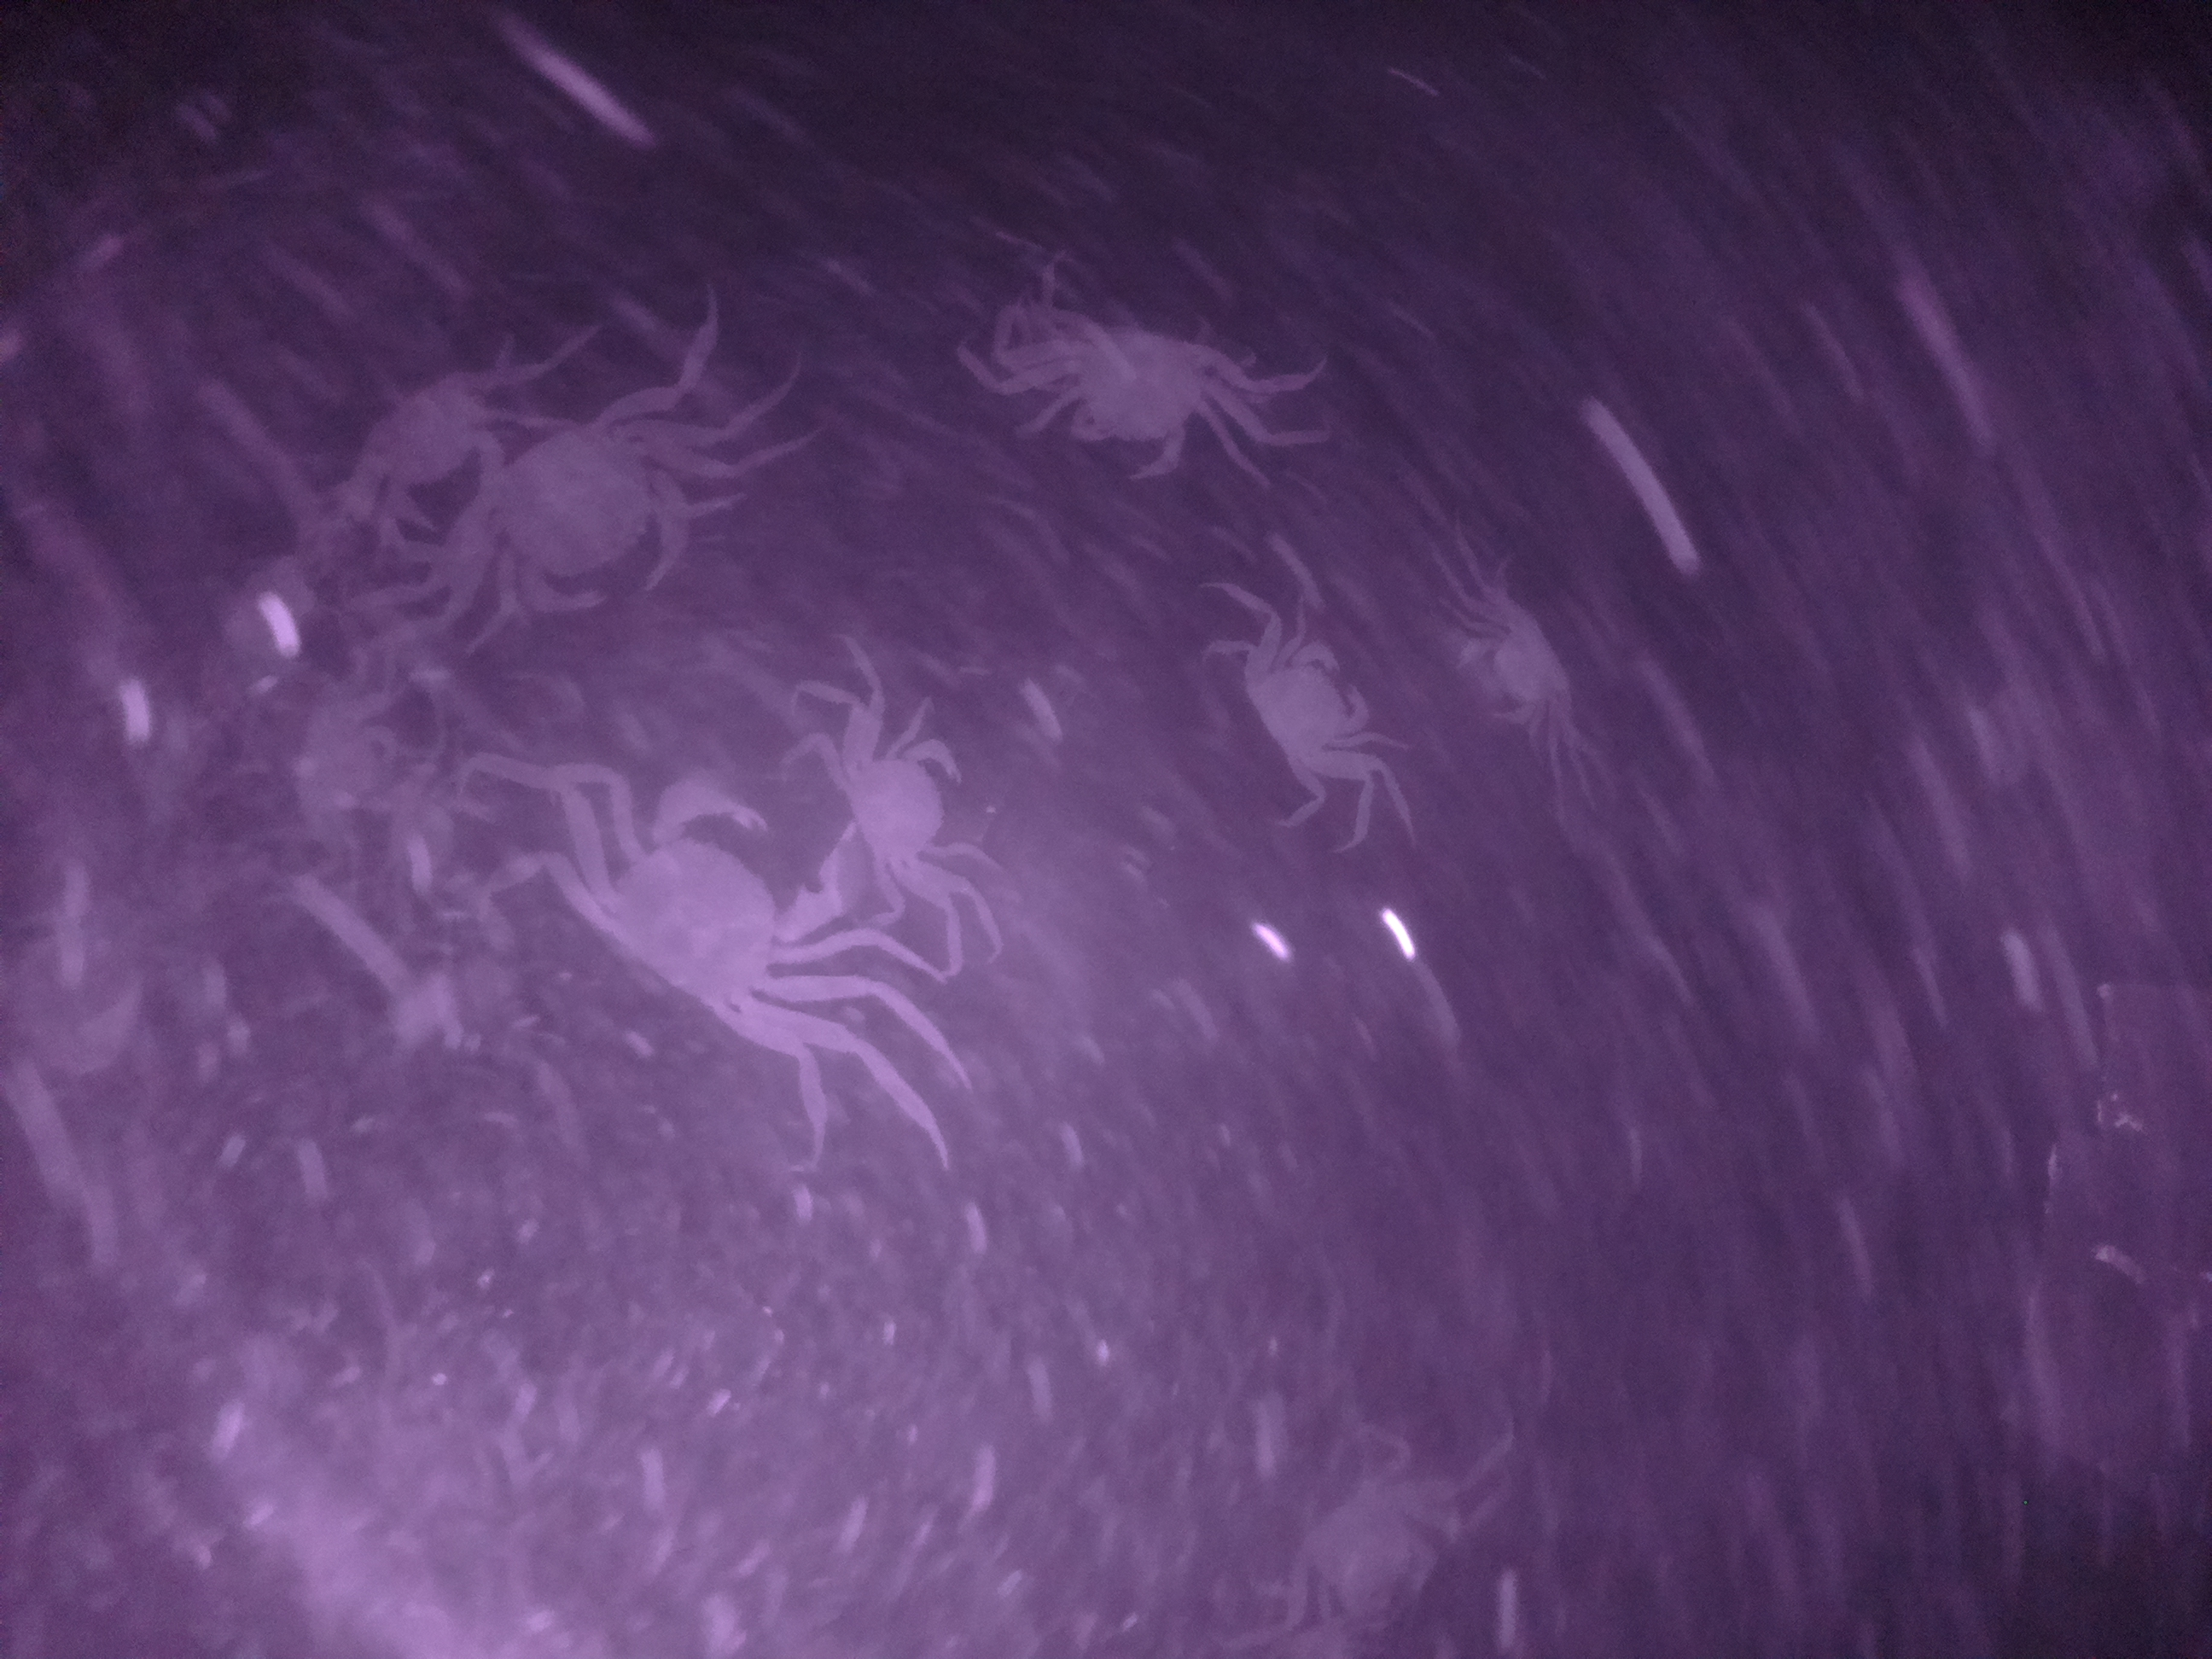Crab: (455, 390, 712, 641), (789, 706, 1014, 906), (1038, 307, 1233, 490), (1233, 620, 1383, 805), (1461, 591, 1594, 746)
